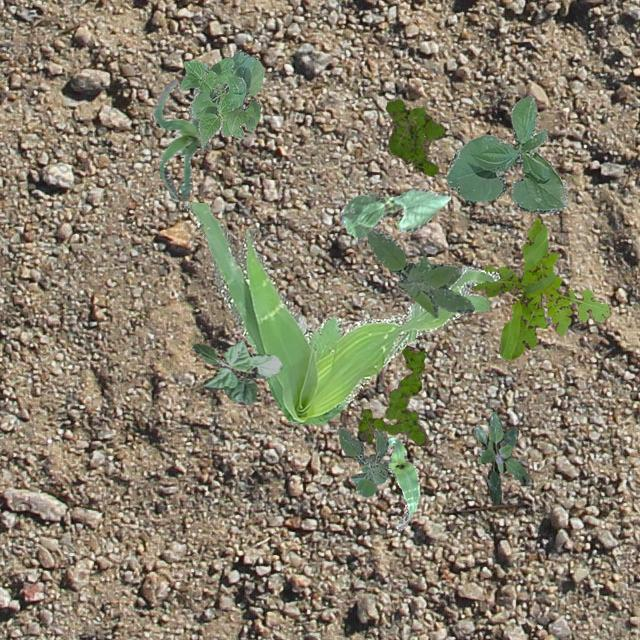crop: (446, 95, 568, 212), (176, 50, 262, 146), (152, 78, 210, 200), (338, 188, 449, 242), (190, 338, 280, 404), (386, 436, 418, 530)
weed: (183, 200, 499, 424), (468, 218, 610, 358), (366, 228, 472, 316), (358, 346, 428, 444), (473, 411, 528, 504), (384, 98, 444, 174), (338, 426, 388, 496)
